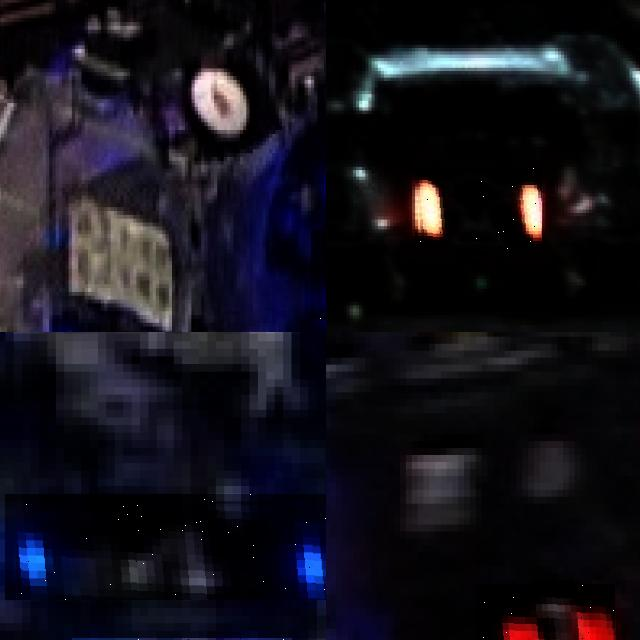B4: (5, 493, 326, 600)
R2: (475, 583, 615, 640)
Rs: (415, 167, 542, 249)
